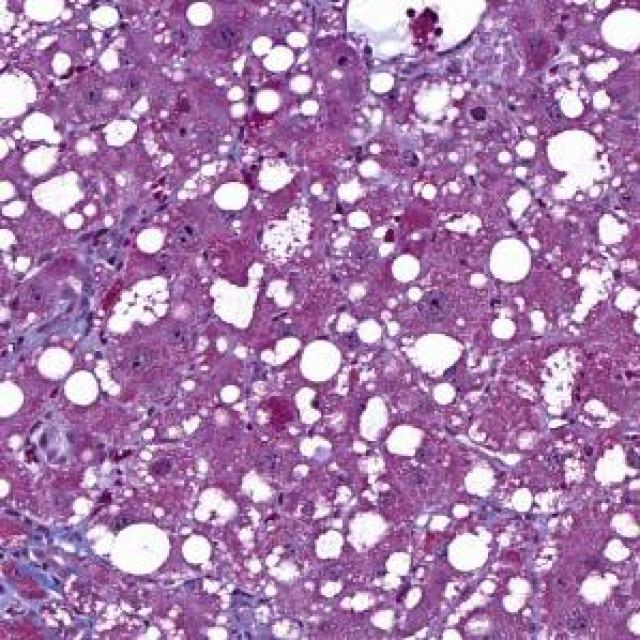fibrosis: (0, 517, 111, 629)
